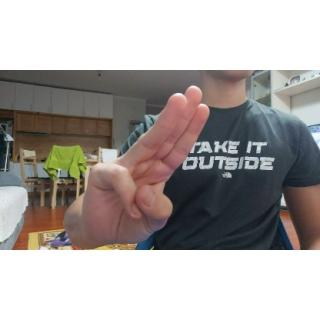THA: (74, 78, 212, 251)
